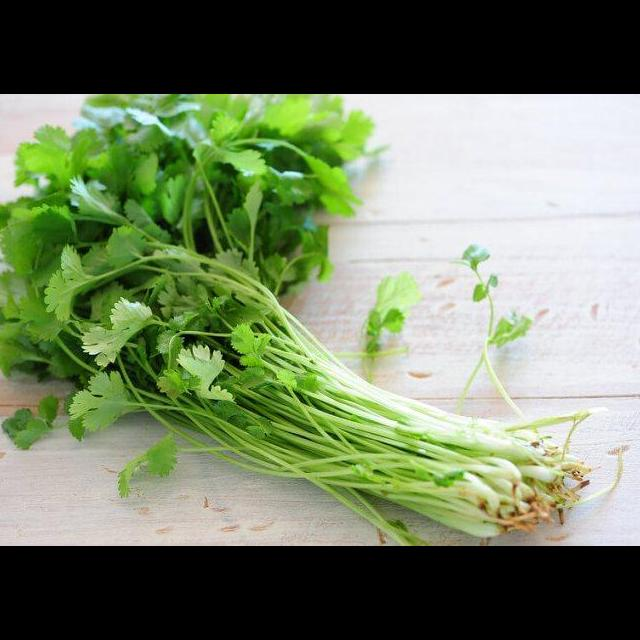cilantro: (0, 94, 623, 544)
